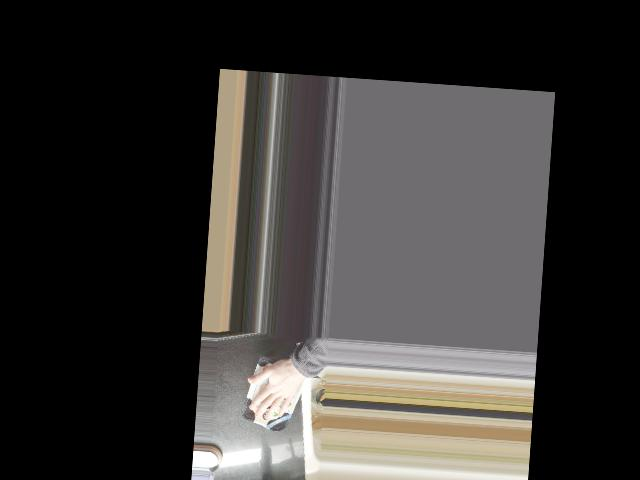cheese: (239, 354, 310, 435)
